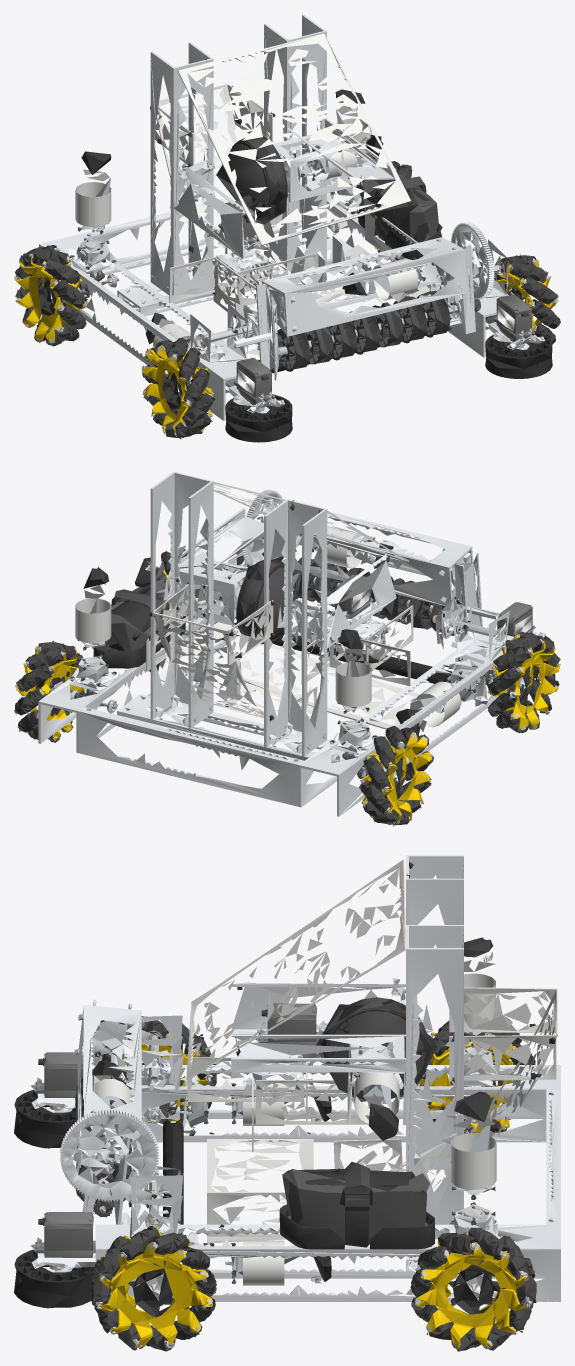
File: robot-mecanum-game.glb
The picture shows the model from 3 angles, top to bottom: view 1: azimuth 30°, elevation 25°; view 2: azimuth 150°, elevation 25°; view 3: azimuth 270°, elevation 25°; orthographic projection. The views are drawn at different scales.
Parts seen in each view (by area): view 1: m0, m39, m23, m28, m33, m18, m16, m35, m29, m36, m31, m17 (+7 smaller); view 2: m0, m39, m23, m18, m16, m36, m28, m35, m7, m29, m12, m27 (+9 smaller); view 3: m0, m39, m23, m18, m16, m31, m36, m29, m35, m33, m12, m17 (+9 smaller).
Part boxes in pixels (box(x1,y1,x2,y2)): m0: box(39, 14, 544, 420); m39: box(155, 33, 438, 360); m23: box(15, 161, 560, 439); m28: box(276, 290, 450, 371); m33: box(225, 331, 552, 442); m18: box(14, 164, 557, 433); m16: box(75, 118, 429, 347); m35: box(216, 137, 425, 240); m29: box(218, 200, 534, 405); m36: box(150, 86, 441, 319); m31: box(235, 172, 530, 374); m17: box(38, 276, 533, 414); m0: box(38, 471, 545, 816); m39: box(146, 482, 419, 729); m23: box(14, 549, 560, 826); m18: box(15, 566, 560, 824); m16: box(75, 526, 461, 727); m36: box(93, 559, 295, 706); m28: box(293, 557, 462, 635); m35: box(114, 556, 297, 652); m7: box(76, 536, 477, 746); m29: box(236, 539, 535, 636); m12: box(83, 540, 421, 733); m27: box(234, 622, 451, 683); m0: box(30, 855, 560, 1301); m39: box(186, 859, 558, 1243); m23: box(90, 1016, 536, 1351); m18: box(98, 1023, 528, 1348); m16: box(90, 973, 496, 1285); m31: box(46, 1004, 430, 1237); m36: box(279, 999, 555, 1249); m29: box(35, 1003, 318, 1257); m35: box(316, 997, 437, 1247); m33: box(14, 1090, 95, 1308); m12: box(92, 937, 492, 1281); m17: box(38, 1063, 505, 1317).
Size of the model in its own units: 0.4528 by 0.3093 by 0.4514.
